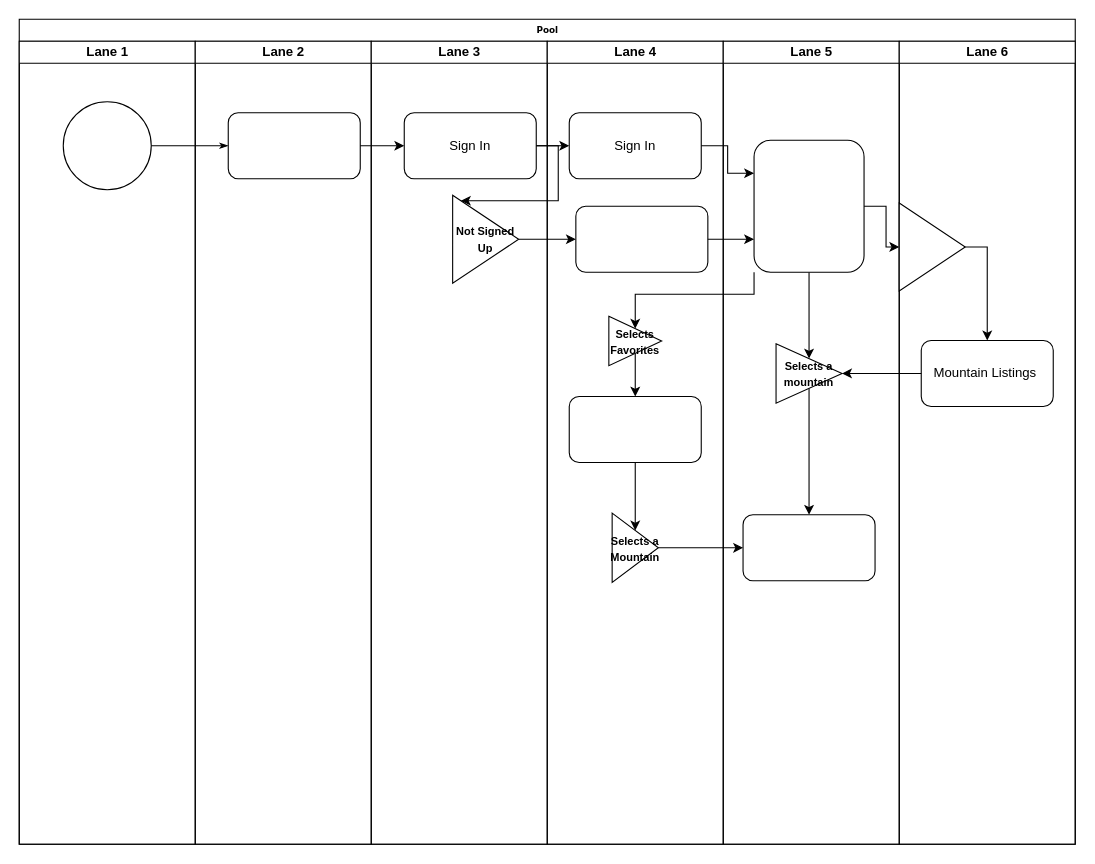
The diagram is 1095 pixels wide and 864 high, and some of its shapes have lost their labels. Here are the shapes that lost their labels. From the top down, the centre of each, then its label:
point 106,145: Entry
point 293,145: Onboarding Page
point 808,205: Home Page
point 641,238: Sign Up
point 931,246: Selects Search
point 634,429: Bookmark Pages
point 808,547: Mountain Information Page
